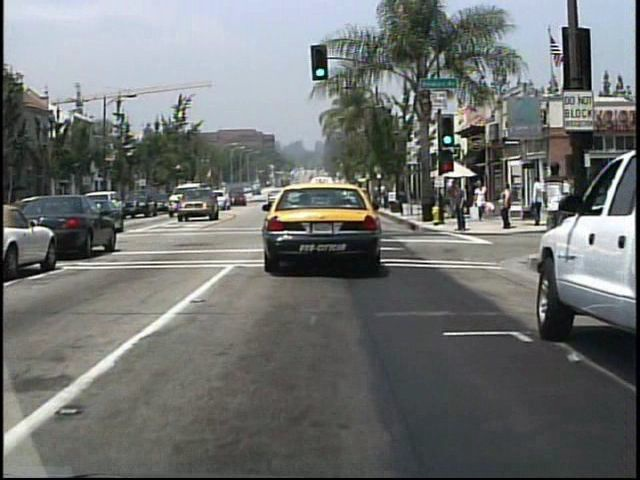person: (538, 158, 573, 260), (454, 182, 471, 235), (500, 182, 518, 230), (447, 181, 464, 226), (477, 180, 492, 222)
